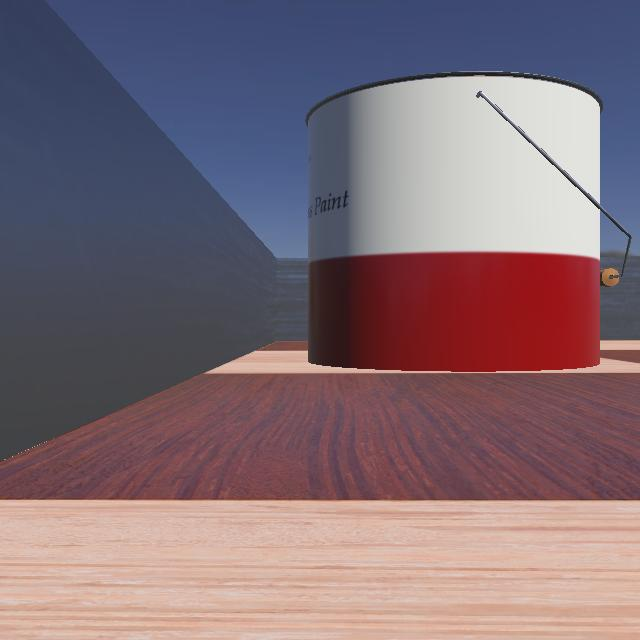paint-bucket: (300, 66, 640, 374)
